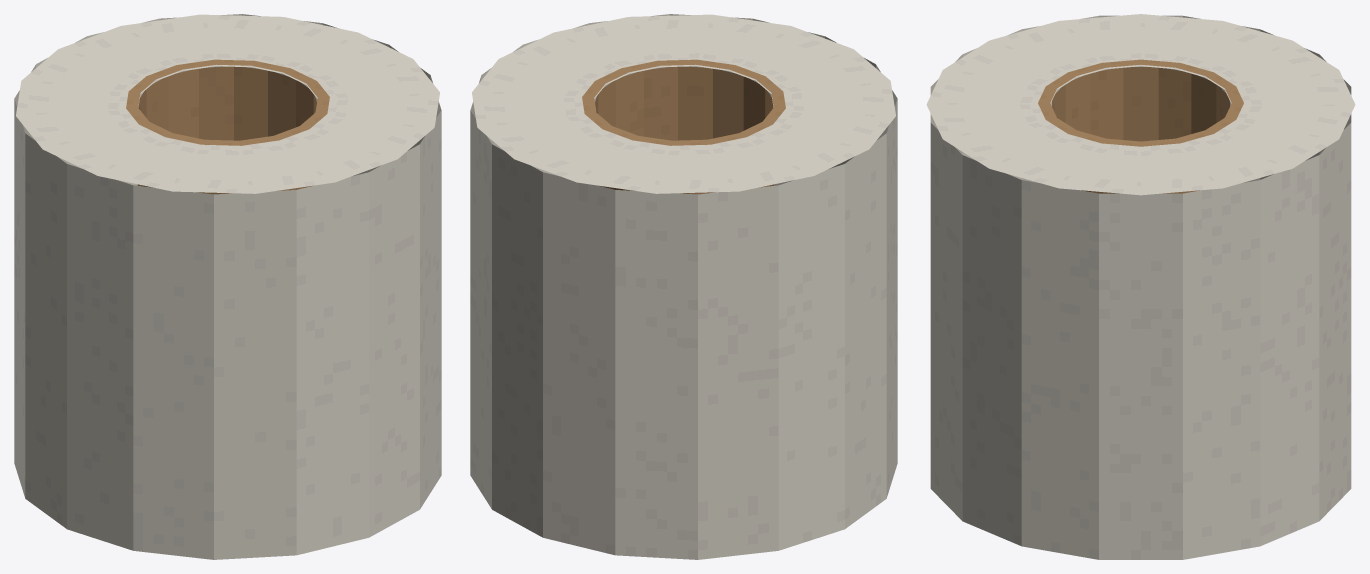
The model's file is toilet_paper.glb.
3 renders of one model, left to right at view 1: azimuth 30°, elevation 25°; view 2: azimuth 150°, elevation 25°; view 3: azimuth 270°, elevation 25°, orthographic.
Visible parts, largest first — view 1: block_outer roll, block_paper core, block_wound layers 4, block_wound layers 5, block_wound layers 6, block_wound layers 3, block_wound layers 7, block_wound layers 2, block_wound layers 8, block_wound layers 1, block_wound layers 9, block_wound layers 10 (+6 smaller); view 2: block_outer roll, block_paper core, block_wound layers 11, block_wound layers 10, block_wound layers 9, block_wound layers 12, block_wound layers 8, block_wound layers 13, block_wound layers 7, block_wound layers 14, block_wound layers 6, block_wound layers 0 (+6 smaller); view 3: block_outer roll, block_paper core, block_wound layers 3, block_wound layers 12, block_wound layers 1, block_wound layers 14, block_wound layers 2, block_wound layers 13, block_wound layers 0, block_wound layers 15, block_wound layers 4, block_wound layers 11 (+6 smaller).
Part boxes in pixels (<box>): block_outer roll: <box>14,14,441,559</box>; block_paper core: <box>137,66,316,194</box>; block_wound layers 4: <box>241,140,334,193</box>; block_wound layers 5: <box>173,144,255,193</box>; block_wound layers 6: <box>98,137,201,191</box>; block_wound layers 3: <box>278,130,397,182</box>; block_wound layers 7: <box>43,125,166,175</box>; block_wound layers 2: <box>308,115,433,159</box>; block_wound layers 8: <box>16,110,140,149</box>; block_wound layers 1: <box>326,92,439,127</box>; block_wound layers 9: <box>16,81,140,115</box>; block_wound layers 10: <box>21,49,155,93</box>; block_outer roll: <box>470,14,897,559</box>; block_paper core: <box>595,66,774,194</box>; block_wound layers 11: <box>577,140,670,193</box>; block_wound layers 10: <box>656,144,738,193</box>; block_wound layers 9: <box>710,137,813,191</box>; block_wound layers 12: <box>514,130,633,182</box>; block_wound layers 8: <box>745,125,868,175</box>; block_wound layers 13: <box>478,115,603,159</box>; block_wound layers 7: <box>771,110,895,149</box>; block_wound layers 14: <box>472,92,585,127</box>; block_wound layers 6: <box>771,81,895,115</box>; block_wound layers 0: <box>499,32,628,84</box>; block_outer roll: <box>930,15,1351,559</box>; block_paper core: <box>1052,67,1229,193</box>; block_wound layers 3: <box>927,104,1046,139</box>; block_wound layers 12: <box>1235,104,1354,139</box>; block_wound layers 1: <box>990,134,1102,188</box>; block_wound layers 14: <box>1179,134,1291,188</box>; block_wound layers 2: <box>943,121,1069,168</box>; block_wound layers 13: <box>1212,121,1338,168</box>; block_wound layers 0: <box>1059,143,1140,195</box>; block_wound layers 15: <box>1141,143,1222,195</box>; block_wound layers 4: <box>926,70,1056,104</box>; block_wound layers 11: <box>1225,70,1355,104</box>.
Size of the model in its own units: 0.104 by 0.0984 by 0.104.
Materials: 2 (2 with a texture image).
